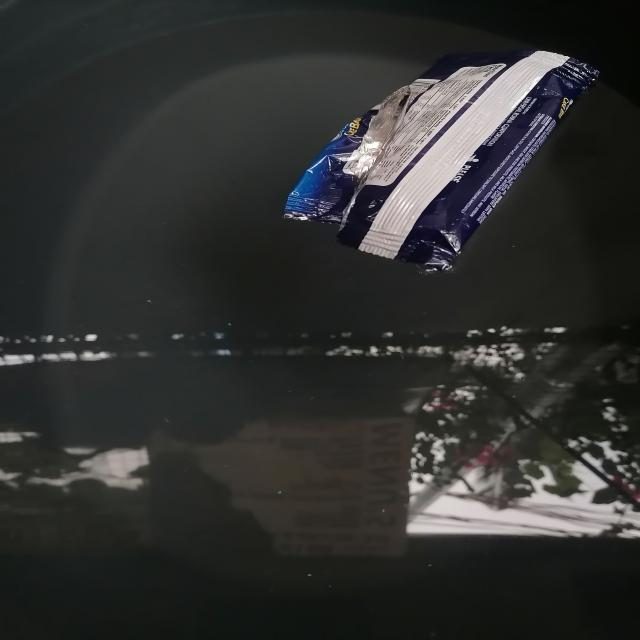Plastic Wrapper: (262, 34, 614, 296)
